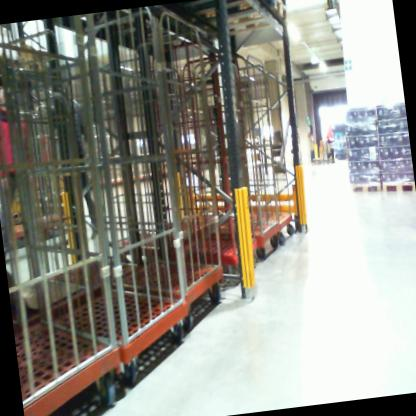pallet: (172, 0, 296, 54), (378, 174, 415, 200), (347, 178, 381, 202)
